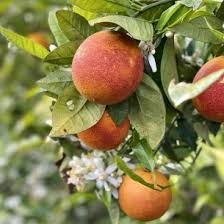orange: (114, 170, 176, 222)
